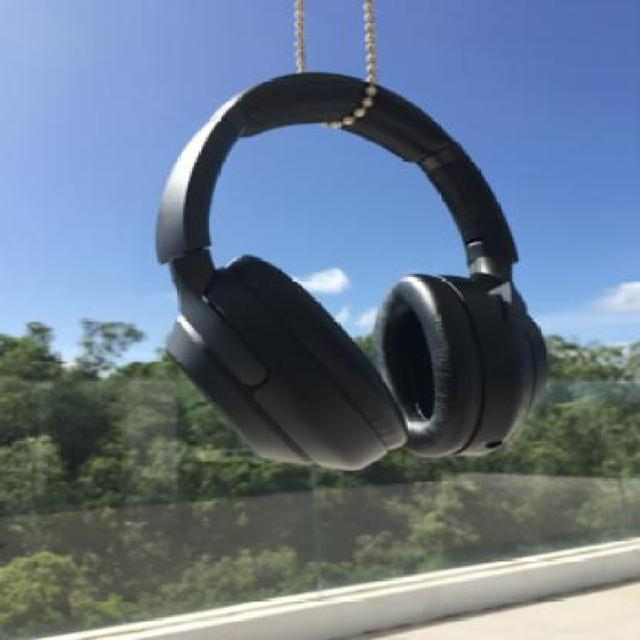earphone: (148, 22, 577, 498)
